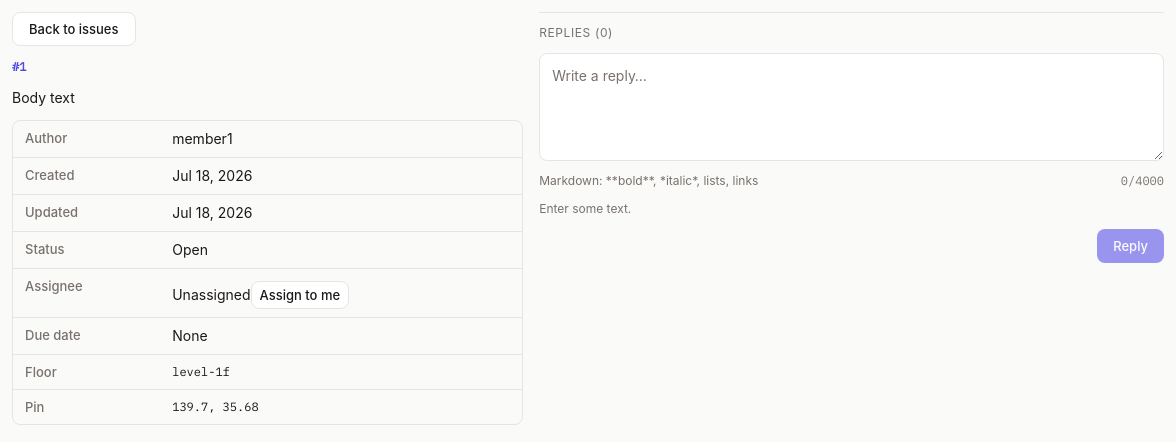
it: in-flight submission locks › locks the reply box while its own submission is in flight
Type "In flight" into the text box labelled "reply" at (852, 107), box [539,53,1164,161]
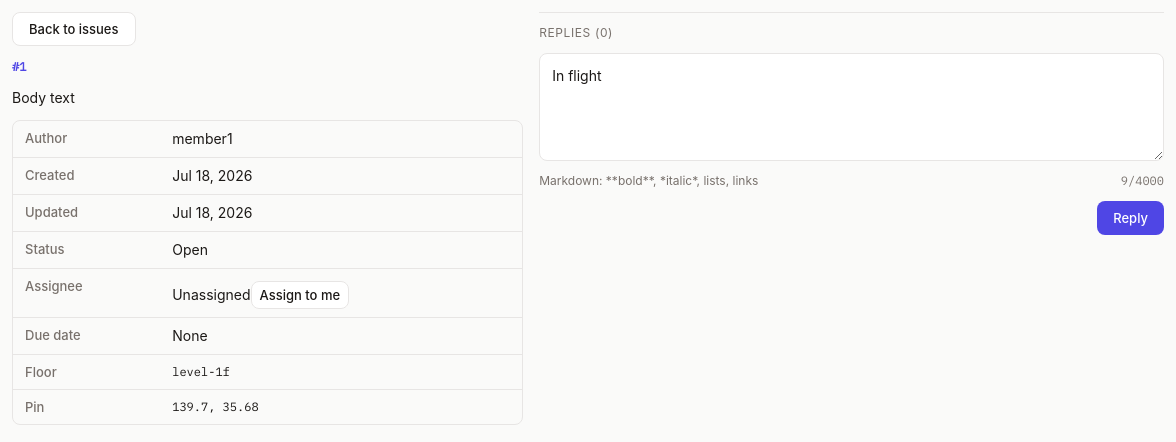
Click the button "Reply" at (1131, 218), box [1097,201,1164,235]
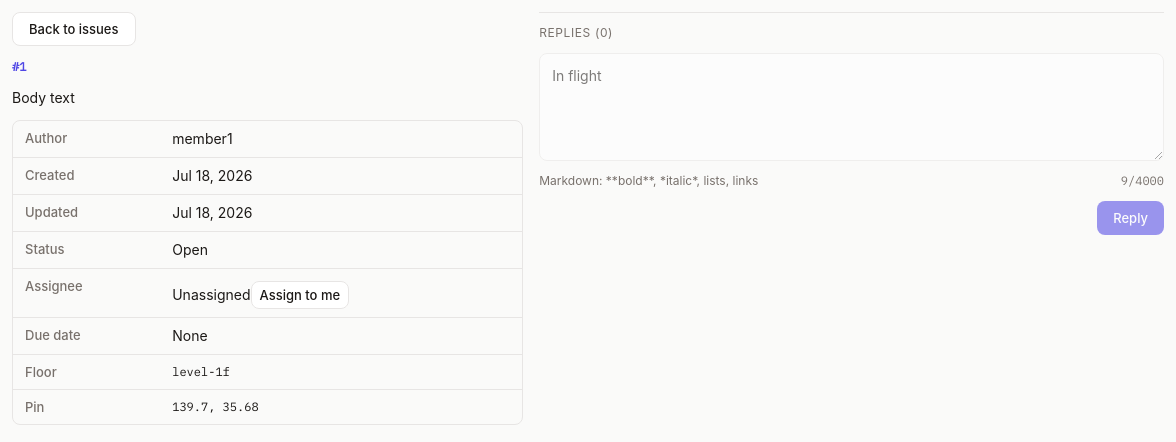
Now the text box named "reply" is disabled, box [539,53,1164,161]
Now the button "Reply" is disabled, box [1097,201,1164,235]
